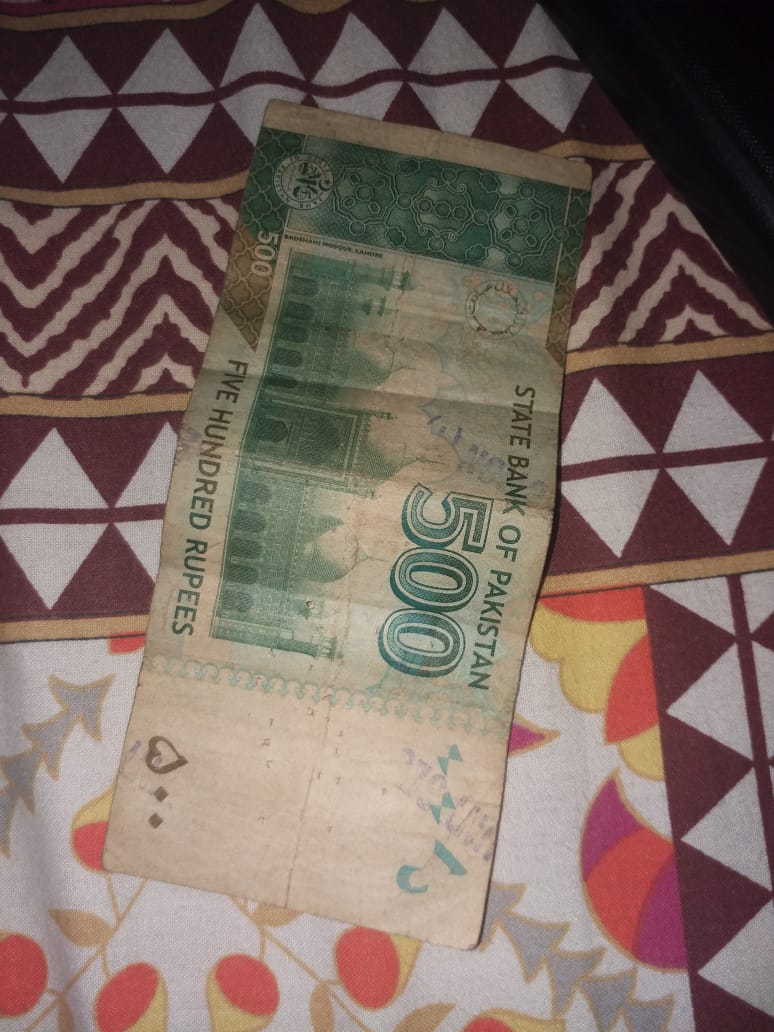500 rupee: (84, 99, 644, 977)
